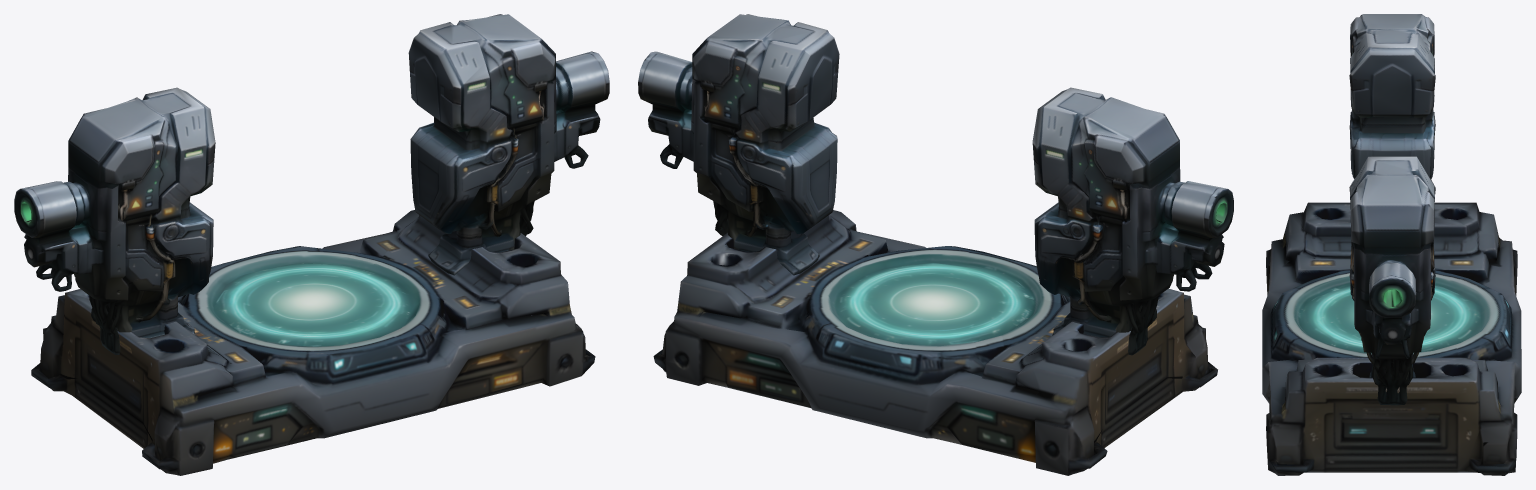
Rendered from Machine (1).fbx.
3 renders of one model, left to right at view 1: azimuth 30°, elevation 25°; view 2: azimuth 150°, elevation 25°; view 3: azimuth 270°, elevation 25°, orthographic. The views are drawn at different scales.
Parts seen in each view (by area): view 1: base, left, right; view 2: base, left, right; view 3: base, right, left.
Part boxes in pixels (bbox=[...]): base: bbox=[31, 210, 595, 475]; left: bbox=[14, 87, 215, 354]; right: bbox=[408, 14, 609, 275]; base: bbox=[653, 210, 1217, 475]; left: bbox=[1032, 87, 1233, 355]; right: bbox=[638, 14, 839, 275]; base: bbox=[1262, 202, 1521, 475]; right: bbox=[1349, 156, 1435, 405]; left: bbox=[1349, 14, 1435, 179].
Size of the model in its own units: 248 by 129 by 107.
